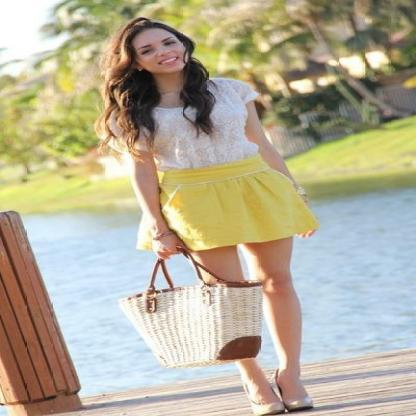bag: (118, 248, 272, 367)
shirt: (153, 78, 261, 172)
shoe: (249, 391, 311, 415)
skirt: (136, 158, 318, 252)
